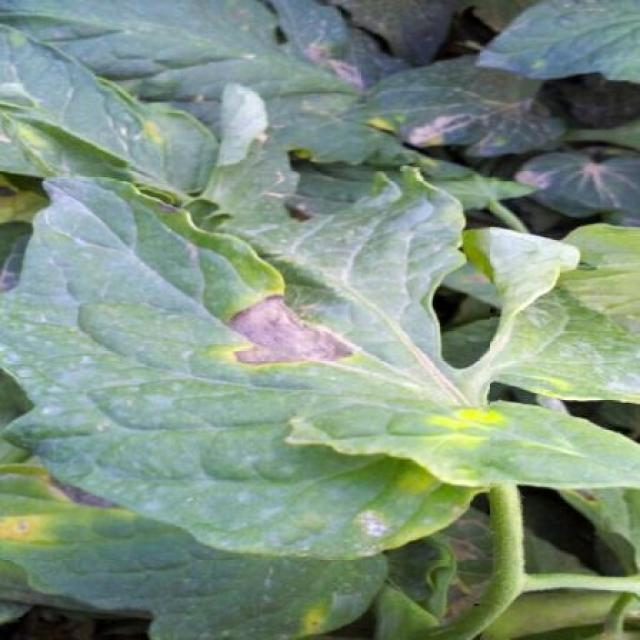Early Blight: (0, 171, 490, 560)
